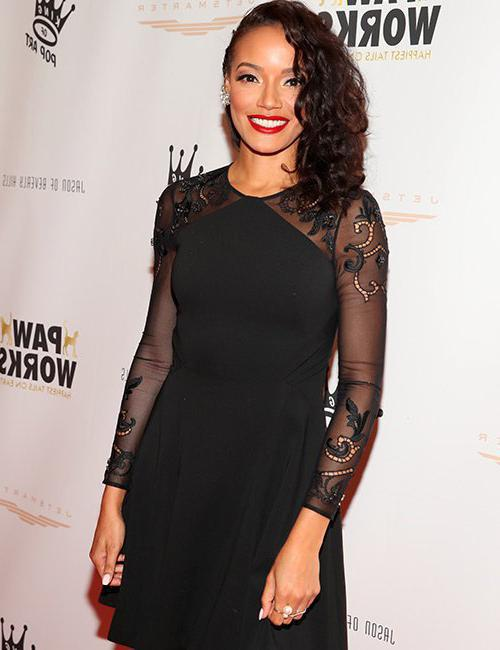Sober: (222, 40, 308, 151)
